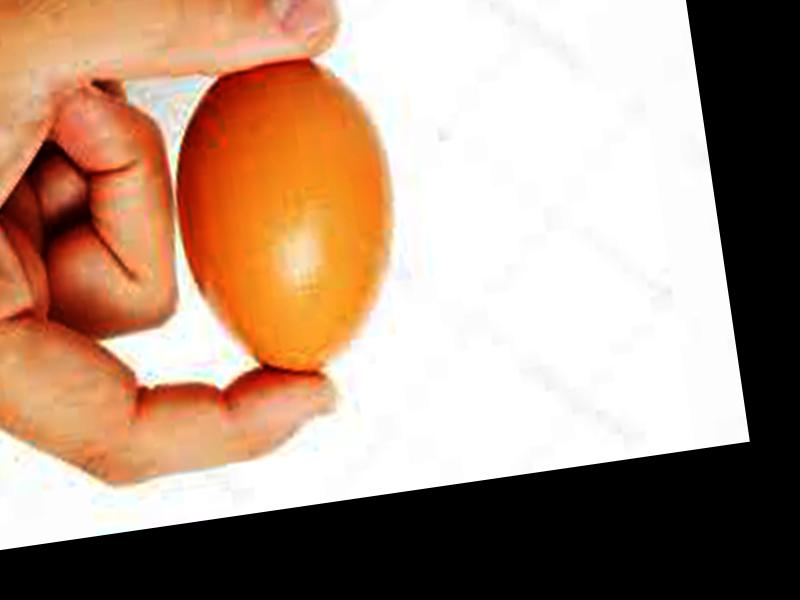Eggs: (157, 48, 418, 394)
